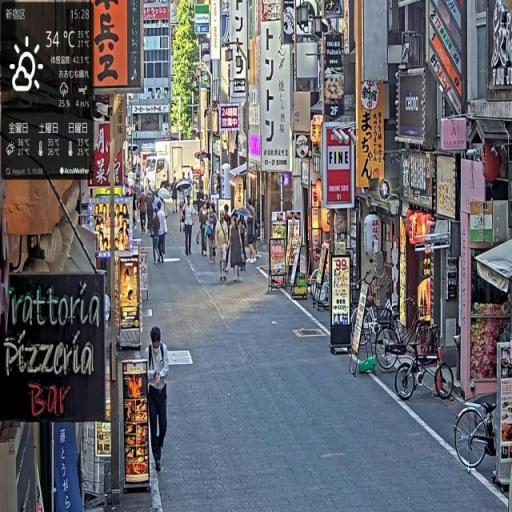person: (147, 327, 172, 475), (216, 208, 232, 287), (228, 215, 245, 284), (183, 194, 196, 258), (199, 200, 210, 257), (139, 191, 149, 235)
